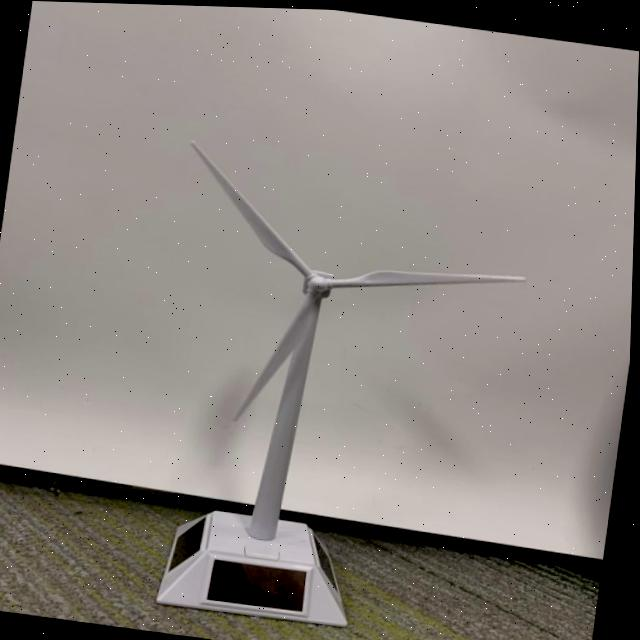solid-blade: (192, 140, 314, 274), (235, 295, 316, 418), (329, 267, 527, 285)
